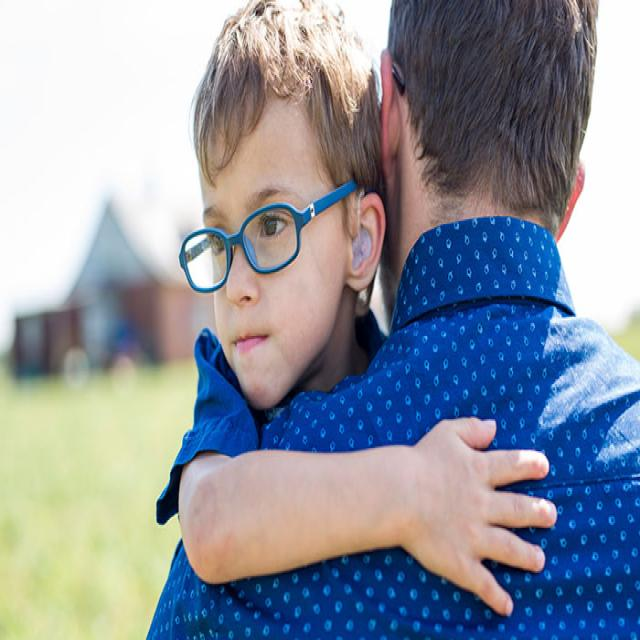adult: (140, 0, 640, 640)
child: (179, 3, 555, 619)
